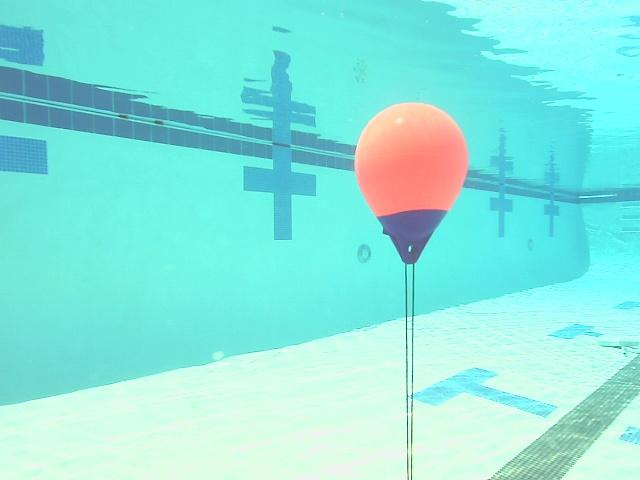buoy: (355, 102, 470, 265)
